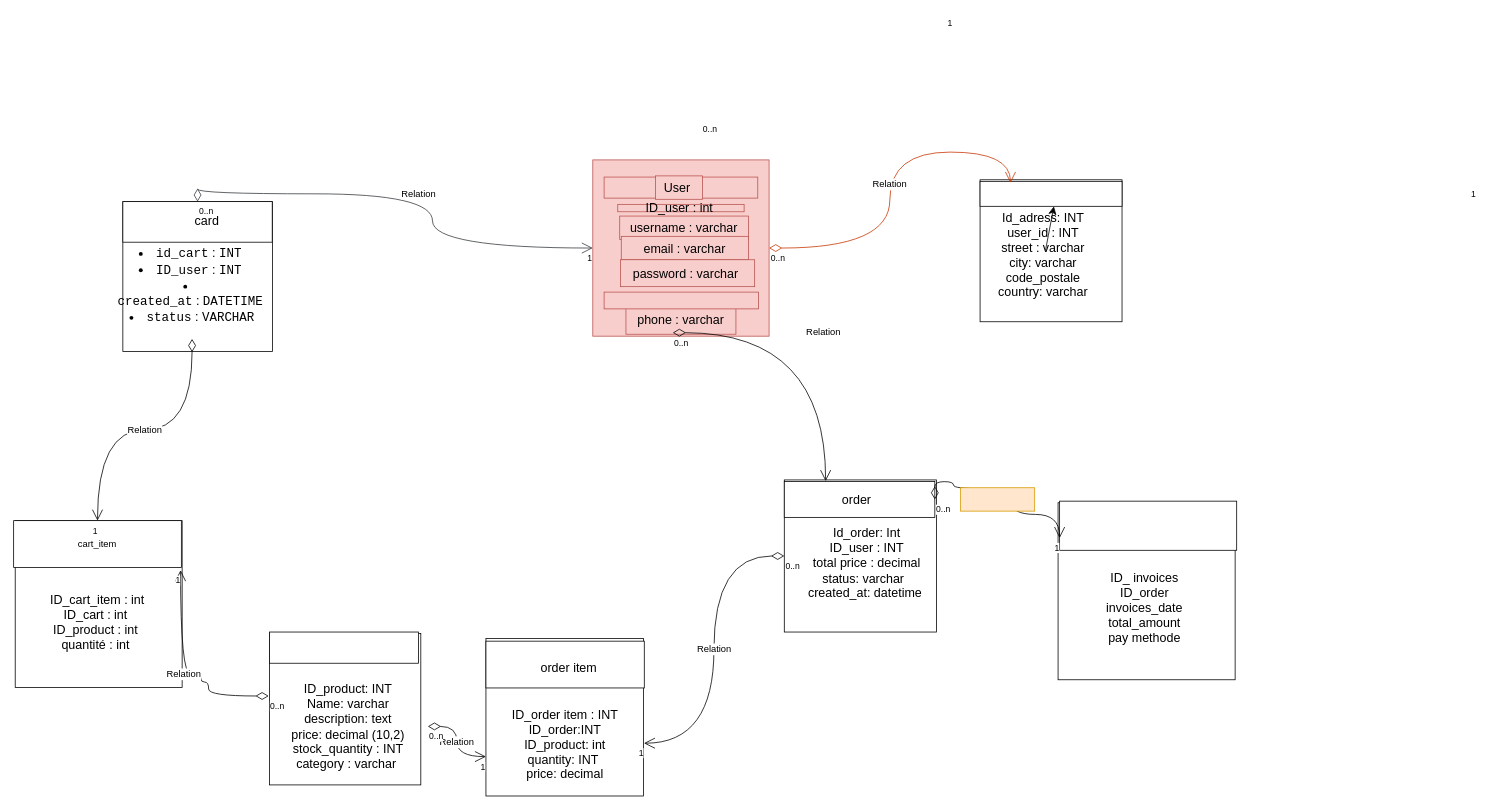
Image size: 1490x810. Some labels were removed from this diagram. Each missing label, with the centre of its shape:
"Adress" belongs at [1050,193].
"invoices" belongs at [1148,525].
"is_active : boolean" belongs at [681,300].
"ONE TO ONE" belongs at [997,499].
"Product" belongs at [343,647].
